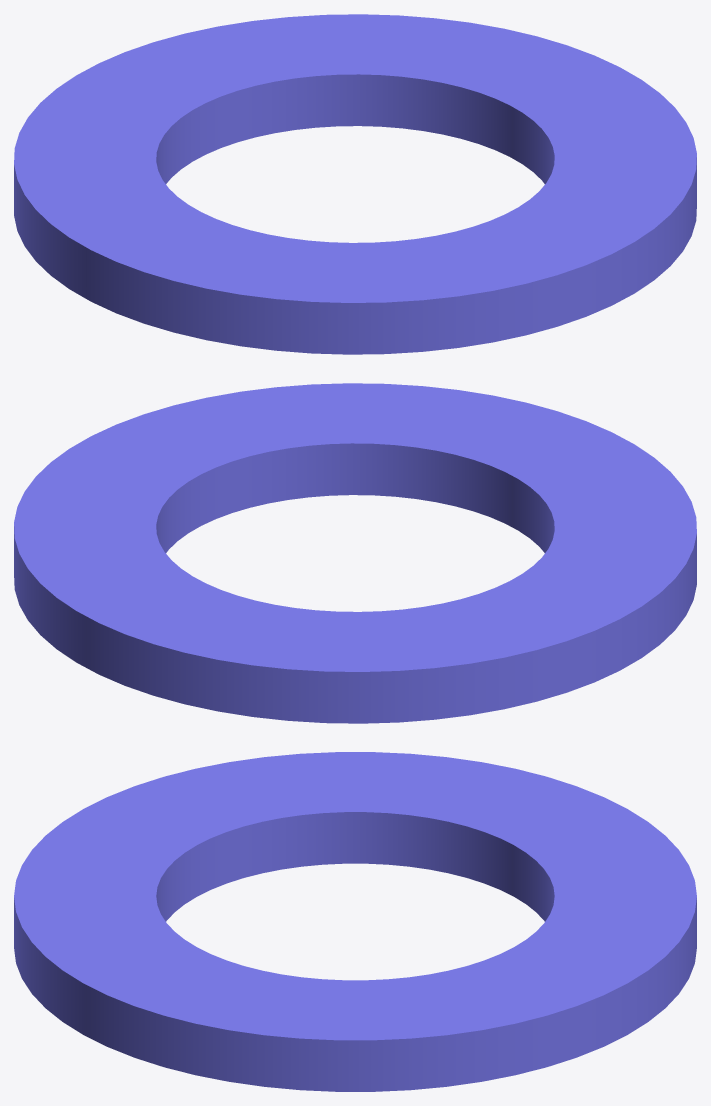
Rendered from TensionerSpacer.obj.
3 renders of one model, top to bottom at view 1: azimuth 30°, elevation 25°; view 2: azimuth 150°, elevation 25°; view 3: azimuth 270°, elevation 25°, orthographic.
Parts seen in each view (by area): view 1: mesh28023, mesh28024, mesh28026; view 2: mesh28023, mesh28024, mesh28026; view 3: mesh28023, mesh28024, mesh28026.
Part boxes in pixels (left/top/right/bottom): mesh28023: left=14, top=14, right=696, bottom=302; mesh28024: left=14, top=157, right=696, bottom=354; mesh28026: left=156, top=74, right=554, bottom=183; mesh28023: left=14, top=383, right=696, bottom=671; mesh28024: left=14, top=526, right=696, bottom=723; mesh28026: left=156, top=443, right=554, bottom=552; mesh28023: left=14, top=752, right=696, bottom=1040; mesh28024: left=14, top=898, right=696, bottom=1091; mesh28026: left=156, top=812, right=554, bottom=921.
Bounding box in the file's own units: 0.012 × 0.001 × 0.012.
